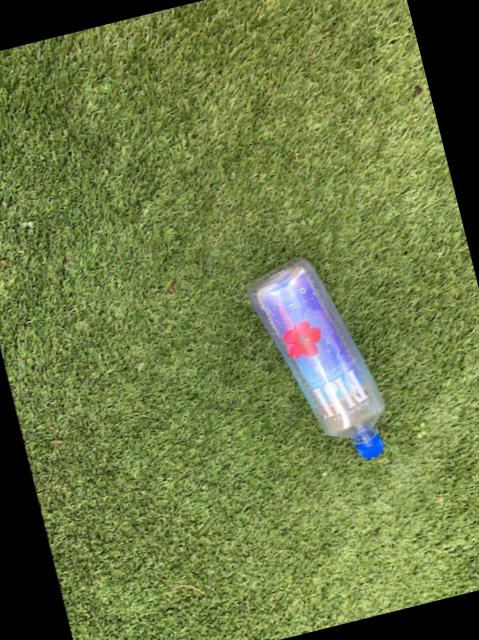plastic: (245, 256, 381, 456)
